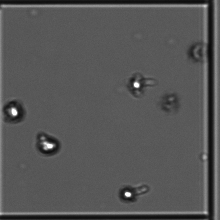Dead Cell: (189, 36, 207, 64)
Living Cell: (125, 69, 151, 102), (5, 97, 27, 129), (37, 132, 61, 160), (117, 186, 143, 205)
